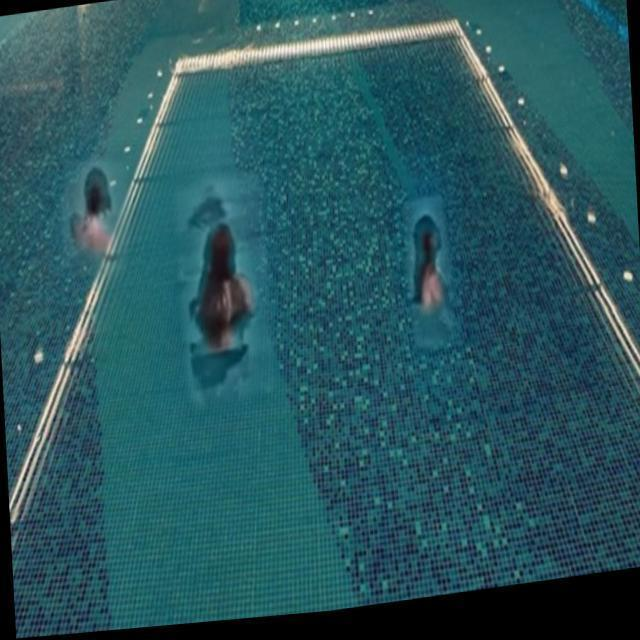swimming: (159, 203, 268, 395), (387, 202, 466, 326), (65, 162, 139, 275)
